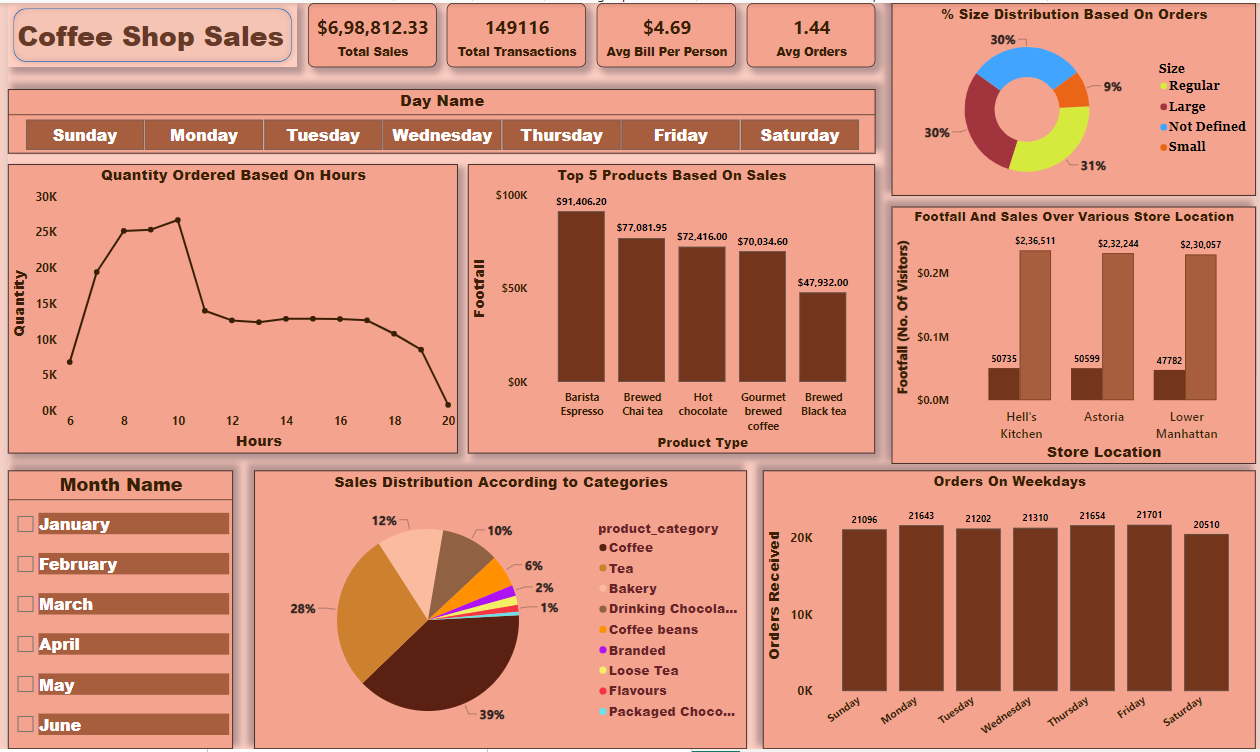

The dashboard page shown, as its layout file describes it:
{"tool":"powerbi","page":{"name":"Coffee_Sales_Dashboard","canvas":[1865,1115],"ordinal":0},"visuals":[{"type":"pieChart","title":"Sales Distribution According to Categories","fields":{"Y":["Sum(Transactions.Total_Bill)"],"Category":["Transactions.product_category"]},"box":[368,699,736,416],"z":0},{"type":"card","title":"% Size Distribution Based On Orders","fields":{"Values":["All Measure.Total Sales"]},"box":[448,0,192,96],"z":1000},{"type":"card","title":"% Size Distribution Based On Orders","fields":{"Values":["All Measure.Total Transactions"]},"box":[656,0,208,96],"z":2000},{"type":"card","title":"% Size Distribution Based On Orders","fields":{"Values":["All Measure.Avg Bill Per Person"]},"box":[880,0,208,96],"z":3000},{"type":"card","title":"% Size Distribution Based On Orders","fields":{"Values":["All Measure.Avg Orders"]},"box":[1104,0,192,96],"z":4000},{"type":"shape","box":[0,0,432,96],"z":5000},{"type":"donutChart","title":"% Size Distribution Based On Orders","fields":{"Category":["Transactions.Size"],"Y":["Sum(Transactions.transaction_id)"]},"box":[1321,0,544,288],"z":6000},{"type":"lineChart","title":"Quantity Ordered Based On Hours","fields":{"Category":["Transactions.Hour"],"Y":["Sum(Transactions.transaction_qty)"]},"box":[0,240,672,432],"z":7000},{"type":"slicer","title":"Month Name","fields":{"Values":["Transactions.Month Name"]},"box":[0,699,336,416],"z":8000},{"type":"columnChart","title":"Top 5 Products Based On Sales","fields":{"Category":["Transactions.product_type"],"Y":["Sum(Transactions.Total_Bill)"]},"box":[688,240,608,432],"z":9000},{"type":"columnChart","title":"Orders On Weekdays","fields":{"Category":["Transactions.Day Name"],"Y":["CountNonNull(Transactions.transaction_id)"]},"box":[1129,699,736,416],"z":10000},{"type":"slicer","title":"Day Name","fields":{"Values":["Transactions.Day Name"]},"box":[0,128,1296,96],"z":11000},{"type":"clusteredColumnChart","title":"Footfall And Sales Over Various Store Location","fields":{"Category":["Transactions.store_location"],"Y":["CountNonNull(Transactions.transaction_id)","Sum(Transactions.Total_Bill)"]},"box":[1321,304,544,384],"z":12000}]}

Visuals, with their boxes in screenshot pixels (x1, y1, x2, y2), scaled from the page's 1865x1115 canvas onto the 1260x752 screenshot:
"Sales Distribution According to Categories" pieChart: bbox(249, 471, 746, 751)
"% Size Distribution Based On Orders" card: bbox(303, 0, 432, 65)
"% Size Distribution Based On Orders" card: bbox(443, 0, 584, 65)
"% Size Distribution Based On Orders" card: bbox(595, 0, 735, 65)
"% Size Distribution Based On Orders" card: bbox(746, 0, 876, 65)
shape: bbox(0, 0, 292, 65)
"% Size Distribution Based On Orders" donutChart: bbox(892, 0, 1259, 194)
"Quantity Ordered Based On Hours" lineChart: bbox(0, 162, 454, 453)
"Month Name" slicer: bbox(0, 471, 227, 751)
"Top 5 Products Based On Sales" columnChart: bbox(465, 162, 876, 453)
"Orders On Weekdays" columnChart: bbox(763, 471, 1259, 751)
"Day Name" slicer: bbox(0, 86, 876, 151)
"Footfall And Sales Over Various Store Location" clusteredColumnChart: bbox(892, 205, 1259, 464)
